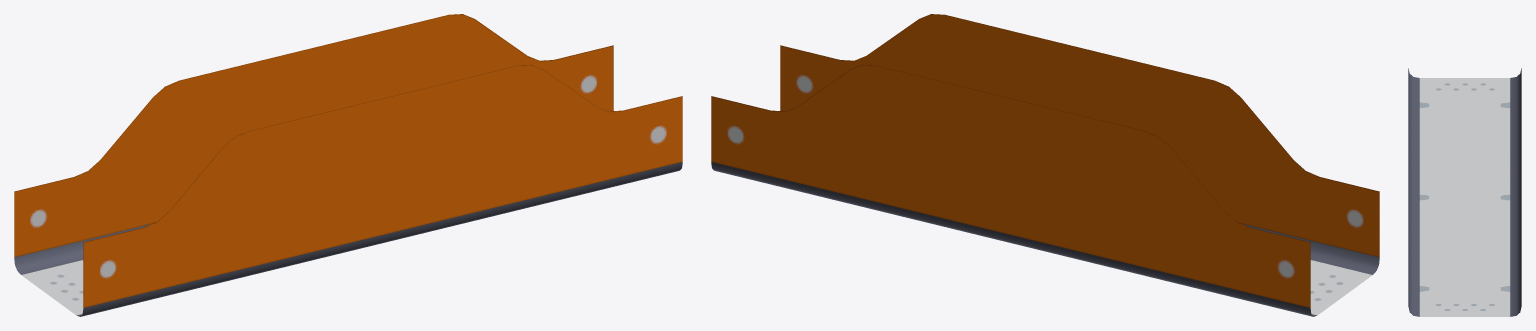
File: Wall_Arch_02.FBX
3 views of the same model, side by side, from view 1: azimuth 30°, elevation 25°; view 2: azimuth 150°, elevation 25°; view 3: azimuth 270°, elevation 25° (orthographic). The views are drawn at different scales.
Visible parts, largest first — view 1: Wall_Arch_02; view 2: Wall_Arch_02; view 3: Wall_Arch_02.
Boxes of the visible parts, box(x1,y1,x2,y2) form: Wall_Arch_02: box(14, 14, 682, 316); Wall_Arch_02: box(711, 14, 1379, 316); Wall_Arch_02: box(1408, 68, 1521, 316).
Size of the model in its own units: 4 by 0.951 by 0.8.
